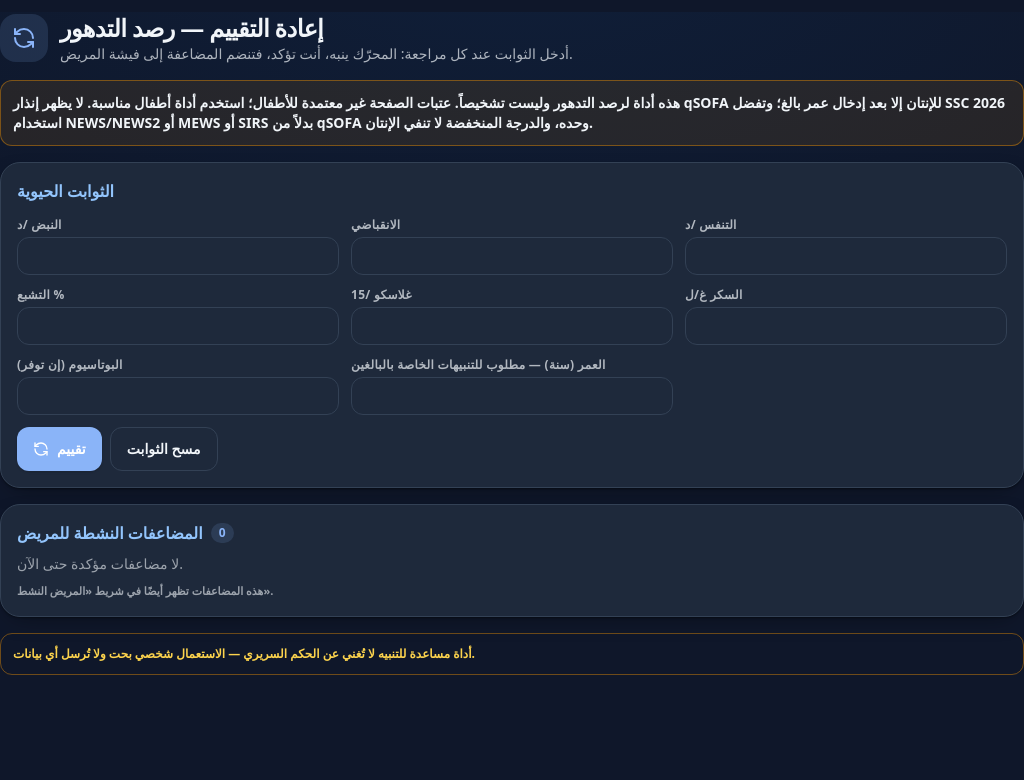
v16.0 — تدفق الصفحة › تفريغ التقييم ⇒ رسالة لا مؤشر
Click the button "تقييم".
click(59, 449)  # box [17,427,102,471]
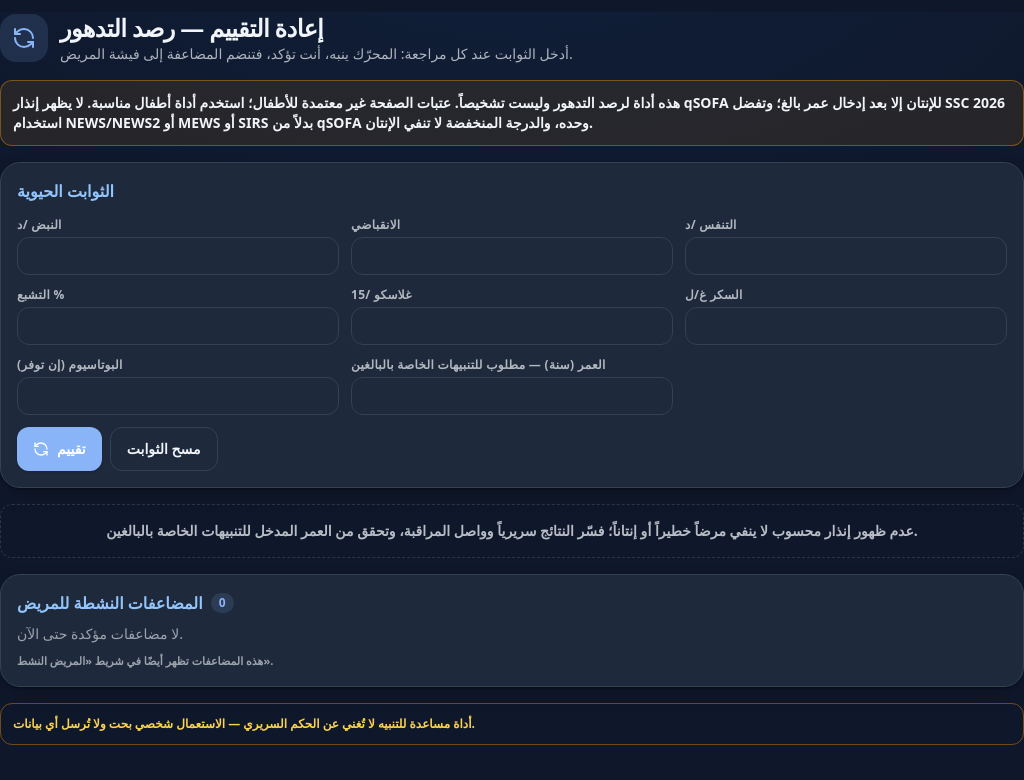
Expected: the text "عدم ظهور إنذار محسوب لا ينفي" is shown, [106,521,918,540]
